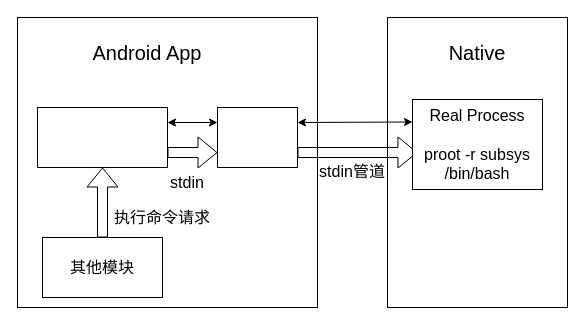
Some shapes in this 585 by 325 pixel diagram are drawn without their labels. Here are the shapes that lost their labels. From the top down, the centre of each, then its label:
the point at 102,137: 子系统命令执行器
the point at 257,137: Process subsys: bin/bash
